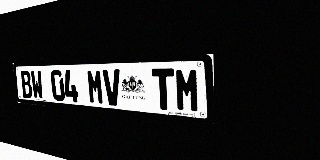0: (50, 70, 65, 101)
4: (63, 70, 79, 103)
B: (20, 70, 33, 99)
M: (175, 68, 200, 113), (86, 69, 104, 105)
T: (151, 68, 175, 111)
V: (102, 69, 122, 106)
W: (30, 70, 44, 100)
